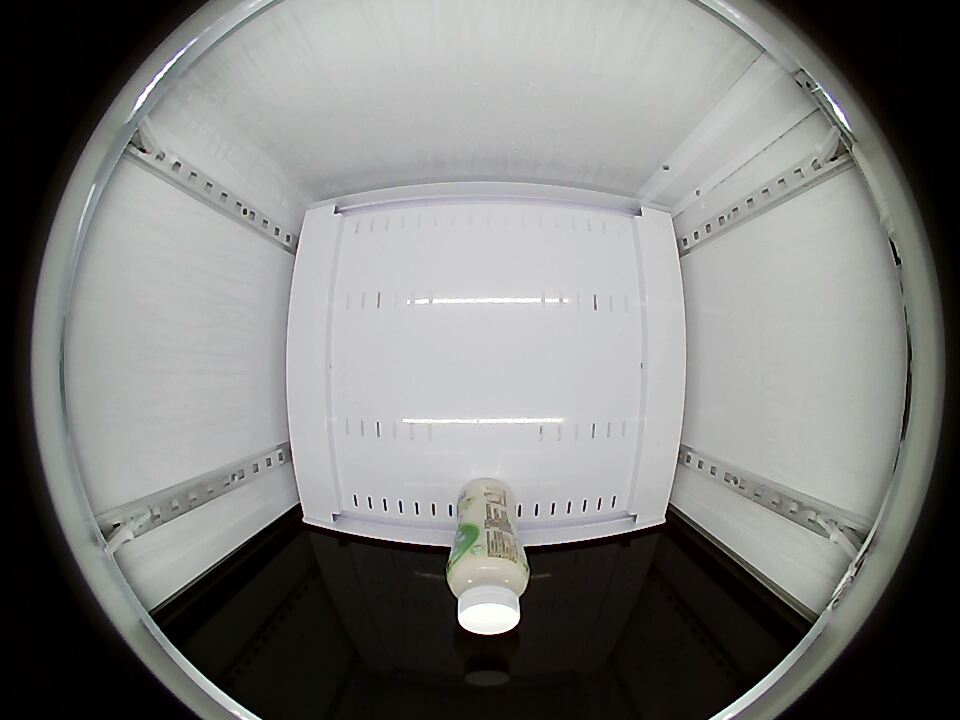yousuanru: (446, 540, 530, 635)
